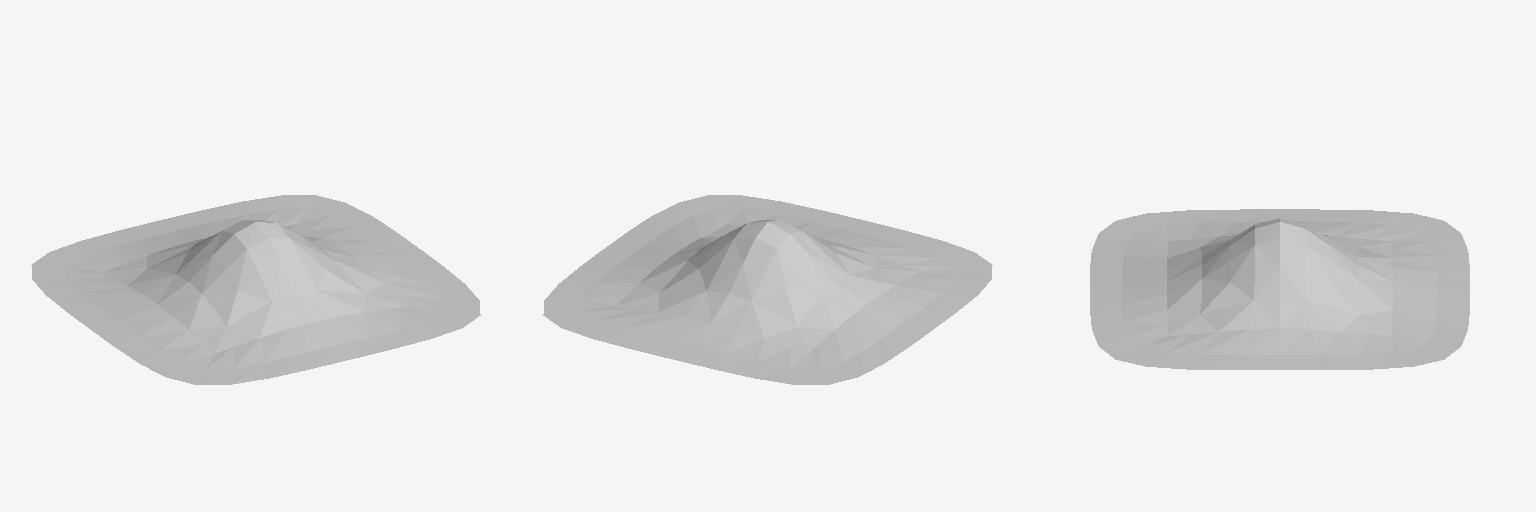
Rendered from Mountain.obj.
3 views of the same model, side by side, from view 1: azimuth 30°, elevation 25°; view 2: azimuth 150°, elevation 25°; view 3: azimuth 270°, elevation 25° (orthographic).
Visible parts, largest first — view 1: Mountain:Mesh; view 2: Mountain:Mesh; view 3: Mountain:Mesh.
Boxes of the visible parts, <box> form: Mountain:Mesh: <box>31,195,480,384</box>; Mountain:Mesh: <box>543,195,992,384</box>; Mountain:Mesh: <box>1090,209,1469,369</box>.
Bounding box in the file's own units: 46.13 × 9.14 × 46.13.